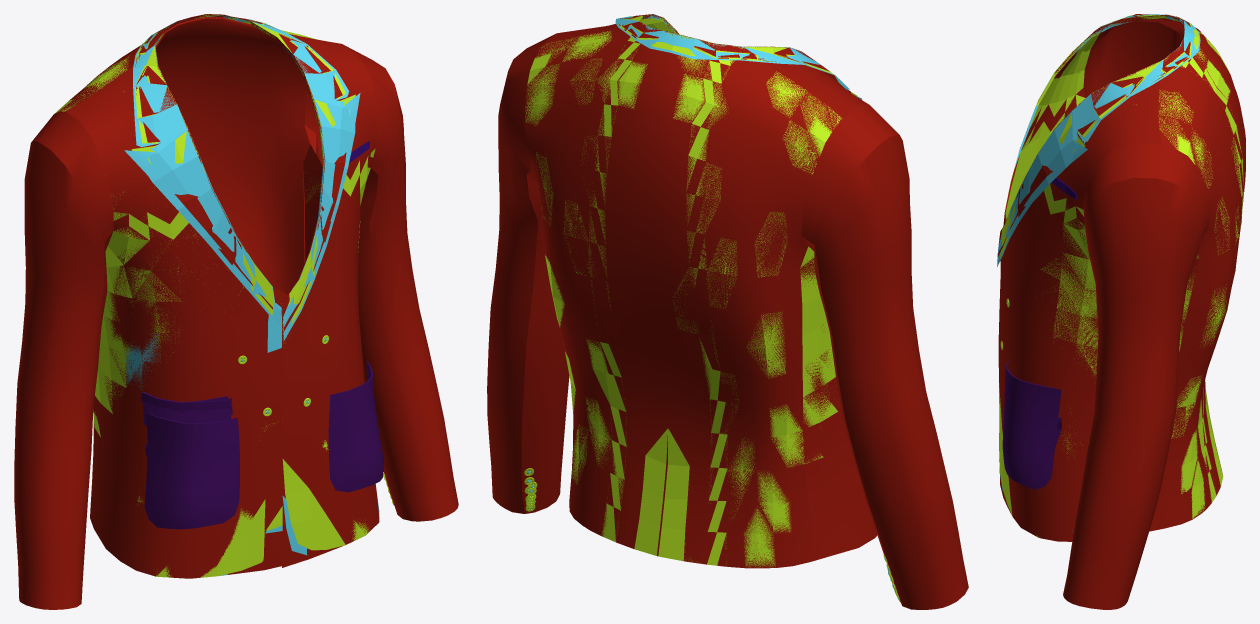
Rendered from Jacket_DB4_1C.fbx.
3 views of the same model, side by side, from view 1: azimuth 30°, elevation 25°; view 2: azimuth 150°, elevation 25°; view 3: azimuth 270°, elevation 25° (orthographic). The views are drawn at different scales.
Parts seen in each view (by area): view 1: Bottom_Curved; view 2: Bottom_Curved; view 3: Bottom_Curved.
Part boxes in pixels (left/top/right/bottom): Bottom_Curved: left=14, top=14, right=458, bottom=609; Bottom_Curved: left=487, top=14, right=968, bottom=609; Bottom_Curved: left=997, top=14, right=1245, bottom=609.
Size of the model in its own units: 24.92 by 28.2 by 13.08.
